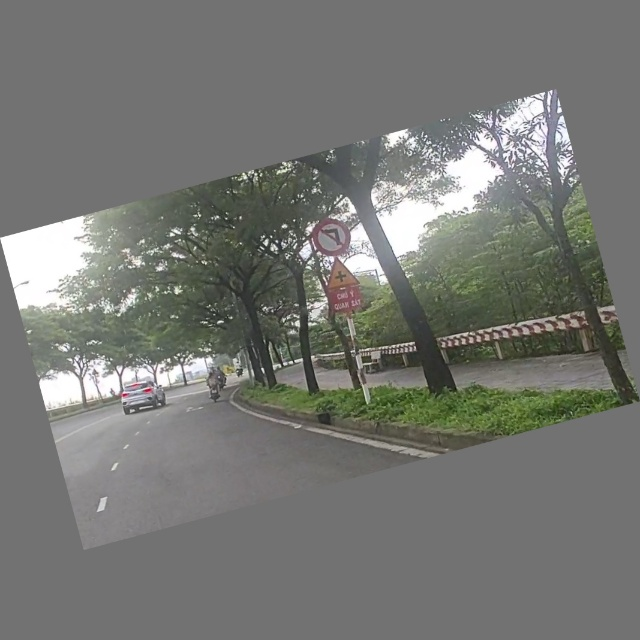P.123a: (303, 209, 365, 264)
W.205a: (317, 251, 366, 294)
